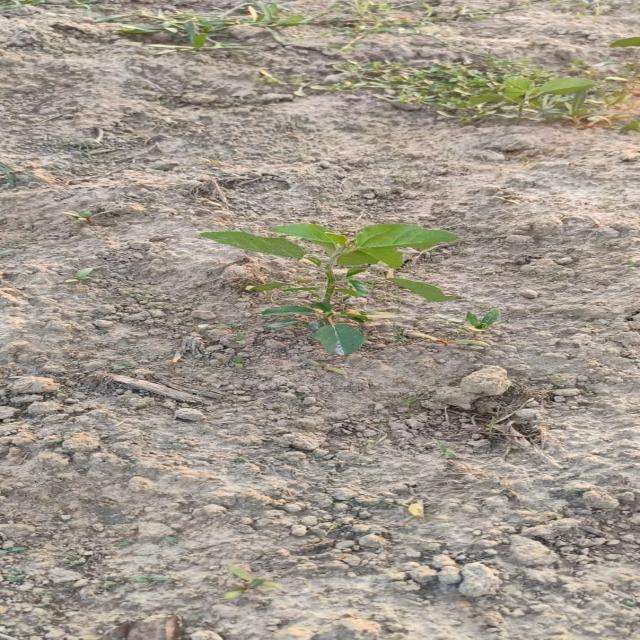plant: (199, 222, 460, 355), (202, 224, 457, 354), (387, 275, 454, 302)
weed: (393, 279, 452, 301)
